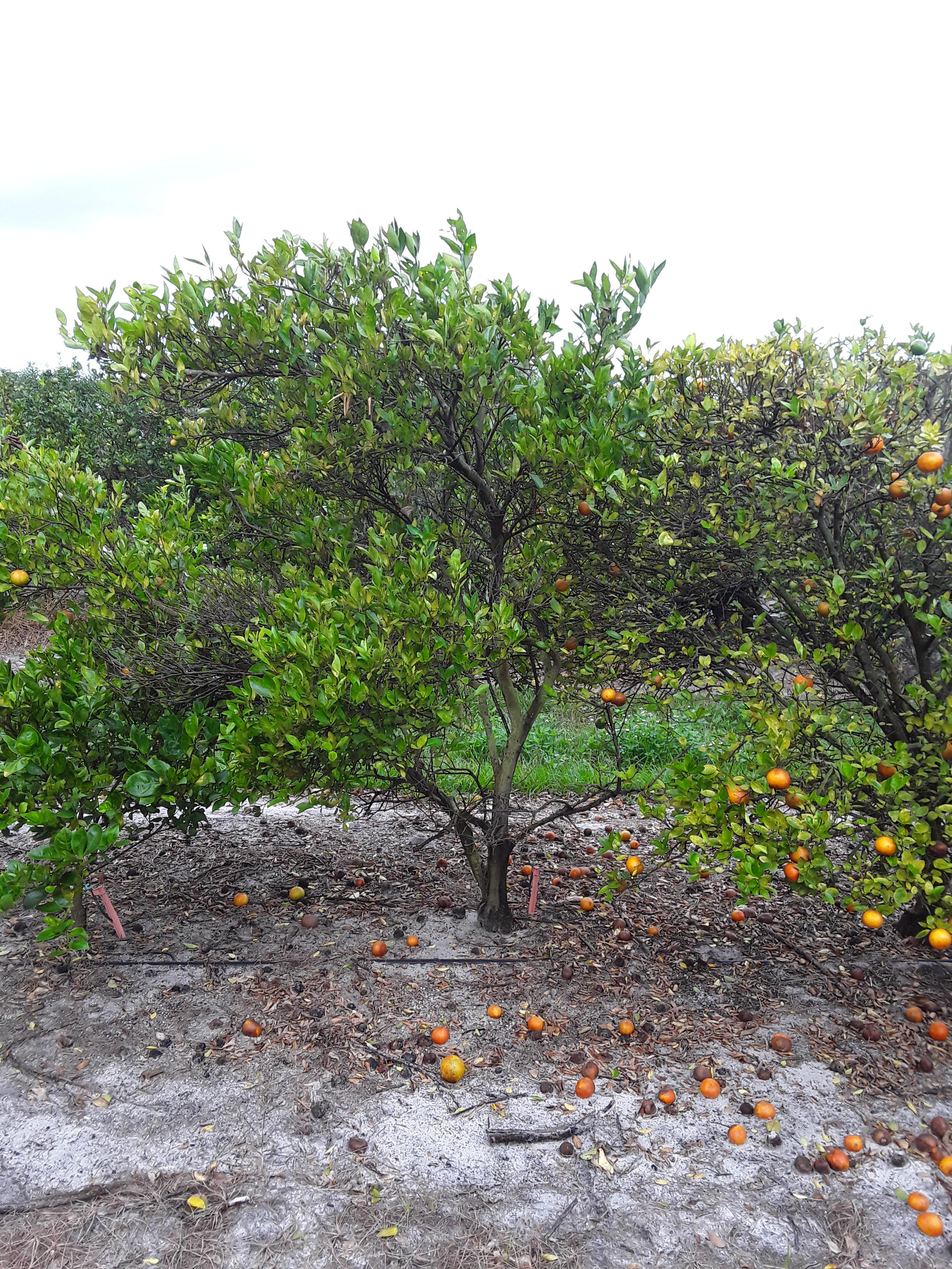fruit_on_ground: (916, 448, 947, 475), (763, 766, 793, 791), (723, 780, 751, 806), (927, 927, 952, 951), (863, 432, 887, 456), (282, 759, 306, 782), (7, 565, 31, 588), (873, 833, 897, 856), (835, 622, 858, 646), (575, 479, 599, 501), (791, 672, 816, 693), (875, 757, 898, 779), (52, 606, 76, 627), (907, 337, 931, 358), (862, 907, 884, 929), (889, 479, 912, 500), (798, 574, 822, 594), (782, 861, 803, 883), (784, 788, 806, 809), (927, 838, 950, 858), (807, 487, 828, 508), (789, 844, 812, 863), (625, 855, 645, 875), (931, 501, 951, 521), (814, 597, 834, 617), (688, 376, 708, 395), (899, 523, 919, 542), (646, 669, 665, 688), (933, 486, 952, 505), (574, 498, 593, 516), (939, 738, 952, 764), (611, 875, 628, 893), (606, 560, 623, 578), (599, 686, 617, 703), (553, 576, 570, 593), (886, 468, 905, 483), (612, 690, 628, 707), (563, 635, 579, 652), (592, 715, 607, 730), (259, 449, 271, 460), (168, 438, 179, 448), (127, 429, 137, 439), (115, 418, 124, 427), (136, 442, 145, 450), (51, 377, 59, 385), (146, 458, 154, 466)
fruit_on_tree: (915, 1210, 945, 1238), (439, 1052, 466, 1082), (826, 1147, 850, 1172), (928, 1019, 951, 1042), (769, 1031, 793, 1053), (912, 1132, 937, 1153), (905, 1190, 930, 1211), (926, 1113, 949, 1135), (574, 1077, 597, 1099), (699, 1077, 722, 1099), (727, 1124, 749, 1146), (842, 1133, 865, 1154), (753, 1099, 776, 1120), (928, 1145, 951, 1166), (240, 1017, 262, 1038), (860, 1024, 884, 1043), (691, 1062, 713, 1082), (903, 1004, 925, 1024), (347, 1133, 368, 1153), (429, 1024, 450, 1044), (793, 1154, 815, 1173), (916, 1053, 936, 1073), (870, 1127, 891, 1146), (299, 911, 320, 930), (812, 1156, 831, 1176), (557, 1139, 576, 1158), (581, 1061, 600, 1079), (287, 884, 306, 902), (369, 939, 388, 957), (736, 1009, 756, 1026), (938, 1154, 952, 1178), (658, 1087, 676, 1105), (617, 1017, 635, 1035), (637, 1099, 656, 1116), (755, 910, 775, 926), (232, 890, 249, 908), (527, 1014, 544, 1032), (847, 1015, 866, 1031), (849, 966, 866, 982), (737, 1100, 754, 1116), (730, 907, 747, 923), (486, 1003, 503, 1019), (755, 1066, 773, 1081), (569, 1048, 586, 1063), (539, 1079, 556, 1094), (843, 899, 861, 913), (739, 905, 757, 919), (612, 916, 628, 931), (579, 895, 595, 910), (616, 928, 633, 942), (697, 865, 712, 879), (560, 964, 574, 979), (437, 896, 452, 910), (618, 828, 633, 842), (405, 933, 420, 947), (576, 864, 592, 877), (723, 885, 738, 898), (599, 848, 614, 861), (646, 923, 661, 936), (542, 829, 557, 842), (568, 865, 583, 878), (435, 855, 449, 868), (519, 863, 533, 876), (555, 865, 570, 877), (628, 838, 642, 850), (348, 856, 363, 867), (501, 853, 514, 865), (613, 956, 625, 968), (333, 867, 346, 878), (550, 874, 562, 885), (354, 875, 366, 886), (584, 844, 596, 854), (582, 827, 593, 837), (603, 824, 613, 833)
